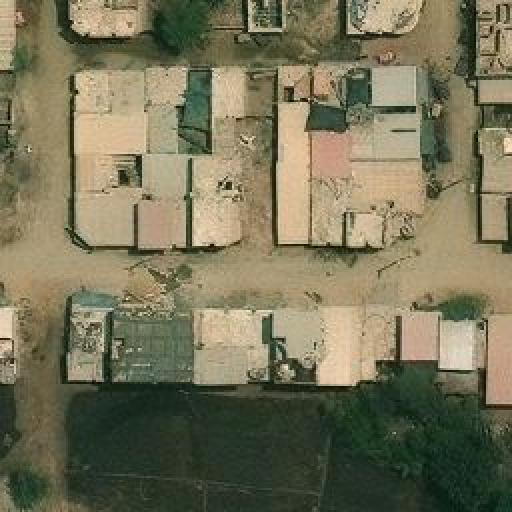manzanas: (71, 60, 431, 252), (68, 303, 510, 411), (60, 0, 285, 36), (476, 128, 510, 249), (477, 0, 510, 109), (341, 0, 431, 37)
